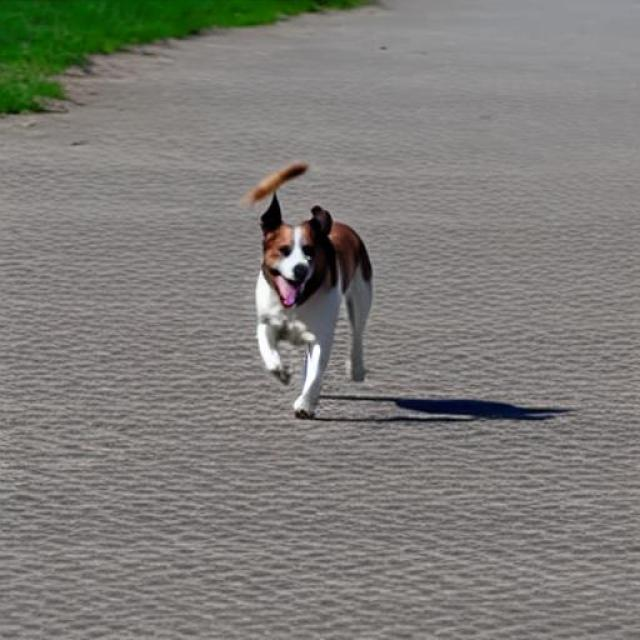Dog: (257, 195, 372, 418)
